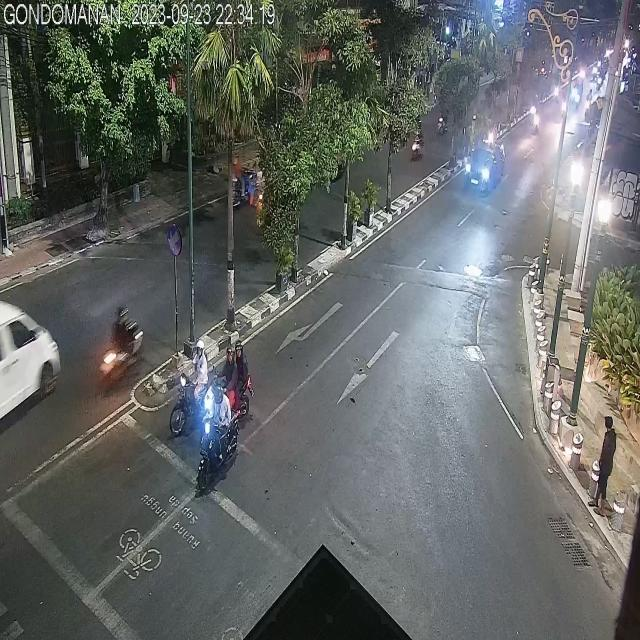car: (0, 295, 61, 432), (464, 142, 507, 198)
motorcycle: (195, 378, 238, 495), (168, 340, 215, 437), (98, 296, 142, 387), (217, 340, 252, 431), (228, 156, 250, 208), (408, 117, 425, 167), (437, 96, 448, 134)
